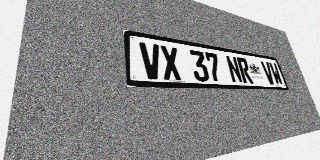3: (189, 50, 210, 82)
7: (204, 52, 224, 82)
N: (225, 55, 243, 83)
R: (236, 57, 254, 84)
V: (139, 42, 163, 80), (260, 61, 276, 85)
W: (268, 62, 284, 85)
X: (159, 45, 182, 81)
